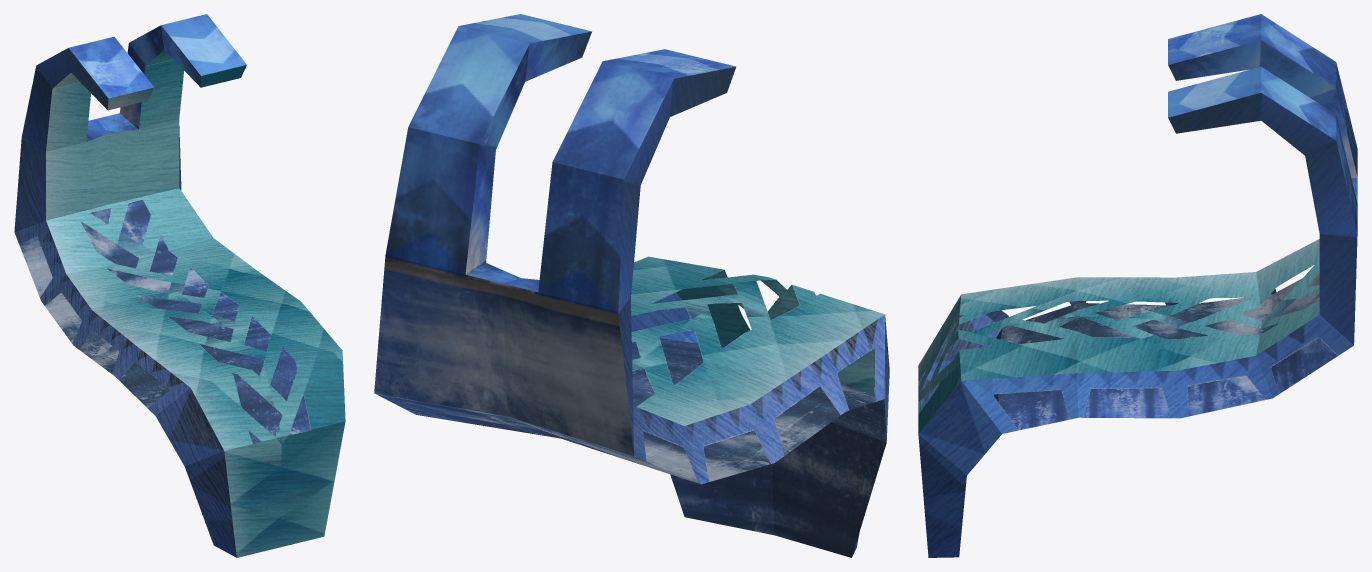
File: memory_2.obj
3 renders of one model, left to right at view 1: azimuth 30°, elevation 25°; view 2: azimuth 150°, elevation 25°; view 3: azimuth 270°, elevation 25°, orthographic. The views are drawn at different scales.
Visible parts, largest first — view 1: body; view 2: body; view 3: body.
Part boxes in pixels (box(x1,y1,x2,y2)): body: box(14, 14, 345, 557); body: box(374, 14, 889, 557); body: box(918, 14, 1357, 557).
Bounding box in the file's own units: 198 × 385 × 319.
1 material, 1 textured.
